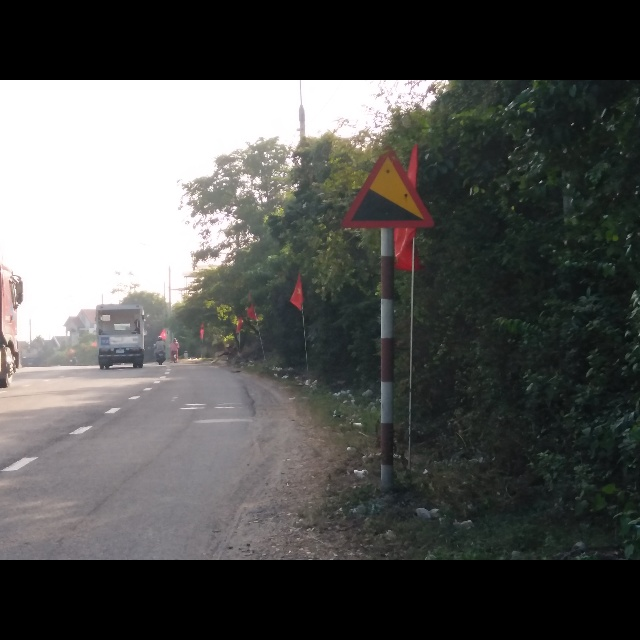Dốc lên nguy hiểm: (339, 142, 430, 228)
